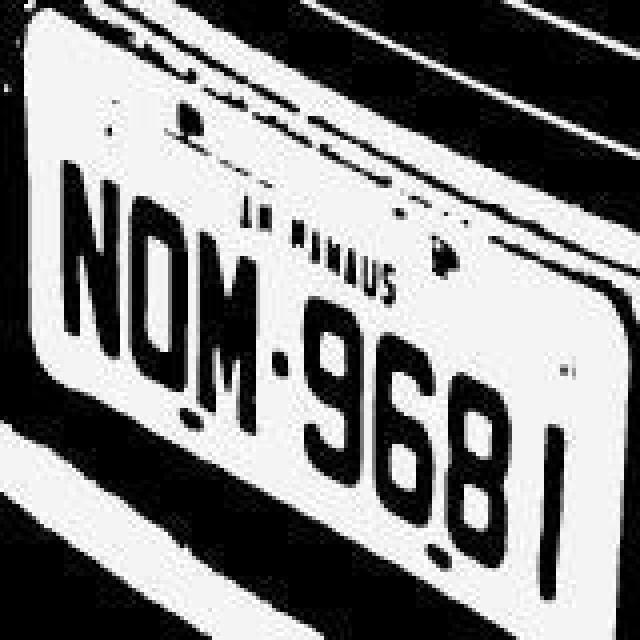1: (514, 408, 574, 616)
6: (360, 316, 440, 532)
8: (436, 352, 524, 576)
9: (290, 290, 374, 502)
M: (186, 226, 262, 438)
N: (48, 140, 128, 388)
O: (124, 180, 196, 412)
